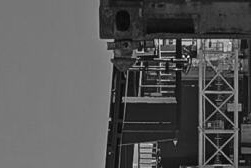Copy of Copy of twist_lock_2: (102, 34, 145, 77)
